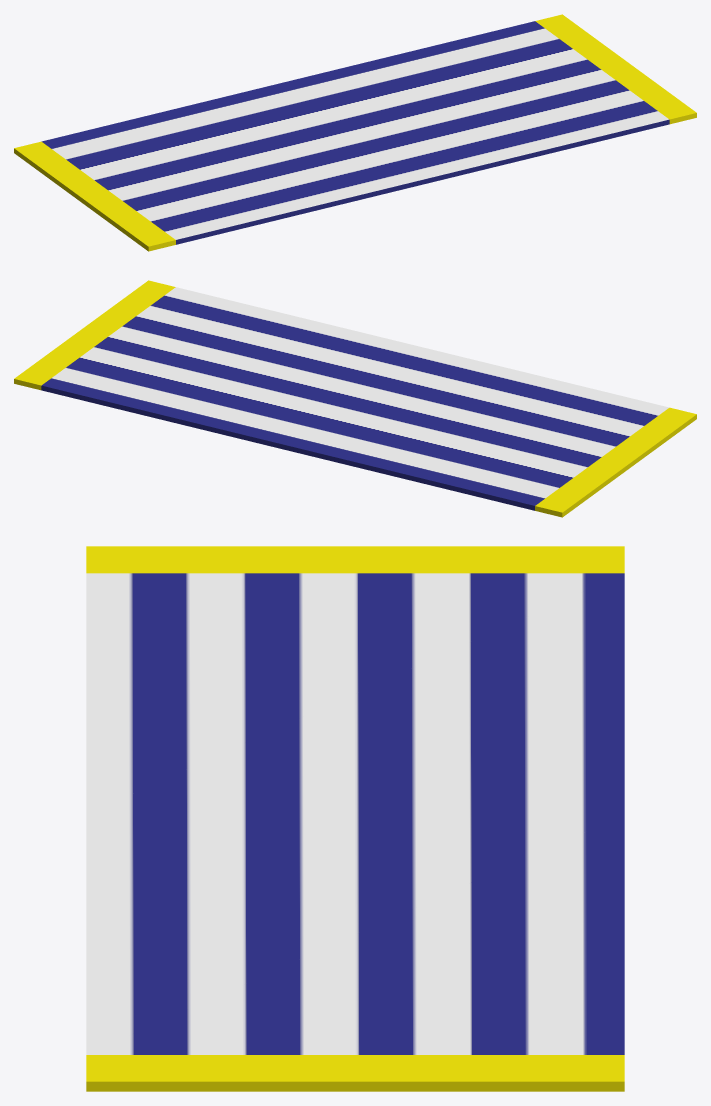
Rendered from MM_BeachTowel.fbx.
3 renders of one model, top to bottom at view 1: azimuth 30°, elevation 25°; view 2: azimuth 150°, elevation 25°; view 3: azimuth 270°, elevation 25°, orthographic. The views are drawn at different scales.
Parts seen in each view (by area): view 1: MM_BeachTowel; view 2: MM_BeachTowel; view 3: MM_BeachTowel.
Boxes of the visible parts, x1=… form: MM_BeachTowel: x1=14, y1=14, x2=696, y2=251; MM_BeachTowel: x1=14, y1=280, x2=696, y2=517; MM_BeachTowel: x1=86, y1=546, x2=624, y2=1091.
Size of the model in its own units: 163 by 1.38 by 69.08.
